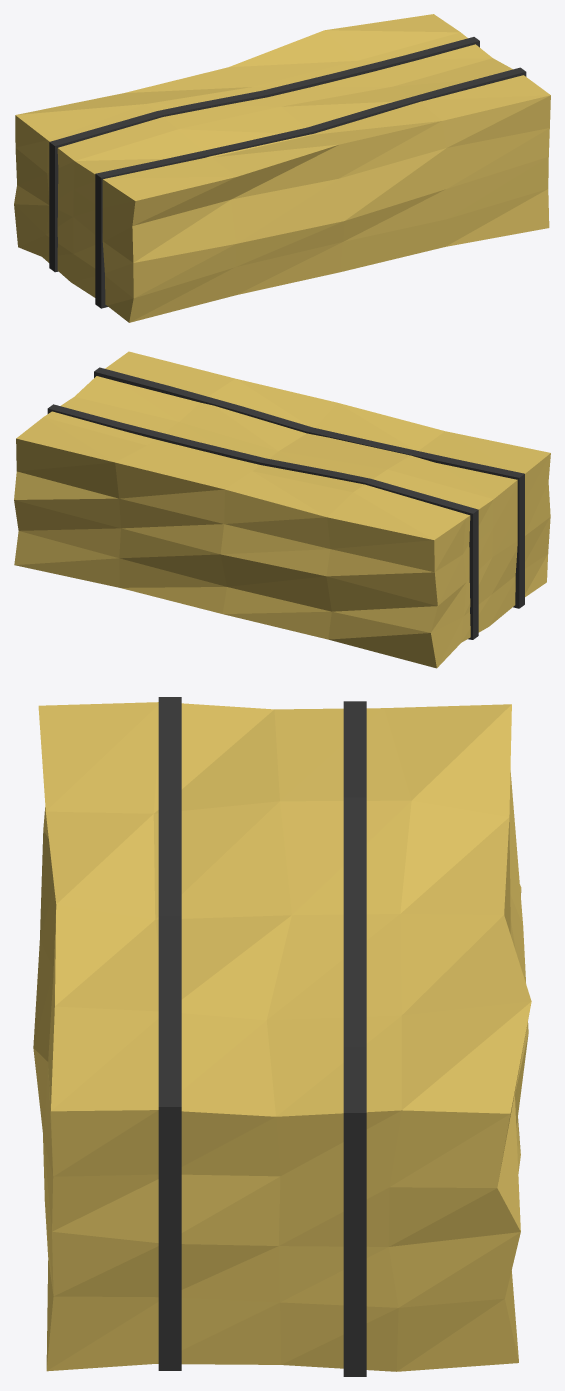
Rendered from hay_bale.fbx.
3 views of the same model, one above another, from view 1: azimuth 30°, elevation 25°; view 2: azimuth 150°, elevation 25°; view 3: azimuth 270°, elevation 25° (orthographic). The views are drawn at different scales.
Parts seen in each view (by area): view 1: Cube, Cube.001, Cube.002; view 2: Cube, Cube.001, Cube.002; view 3: Cube, Cube.001, Cube.002.
Boxes of the visible parts, <box> form: Cube: <box>14,14,550,322</box>; Cube.001: <box>49,37,479,272</box>; Cube.002: <box>95,67,526,308</box>; Cube: <box>14,351,550,668</box>; Cube.001: <box>47,404,478,639</box>; Cube.002: <box>94,367,524,608</box>; Cube: <box>33,702,531,1371</box>; Cube.001: <box>343,701,366,1376</box>; Cube.002: <box>158,697,181,1370</box>.
Bounding box in the file's own units: 700 × 218 × 356.
